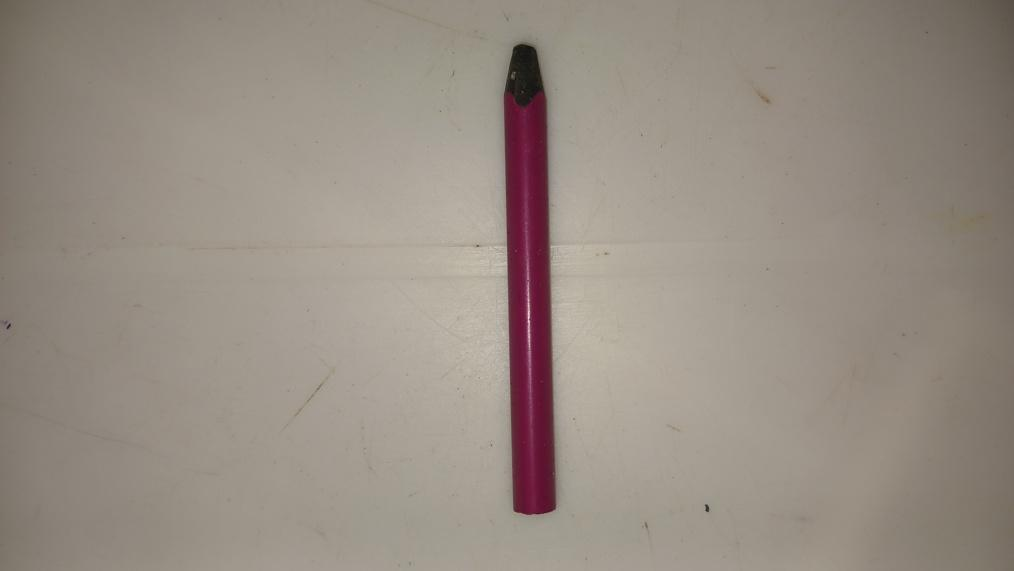Pencil: (508, 42, 558, 515)
